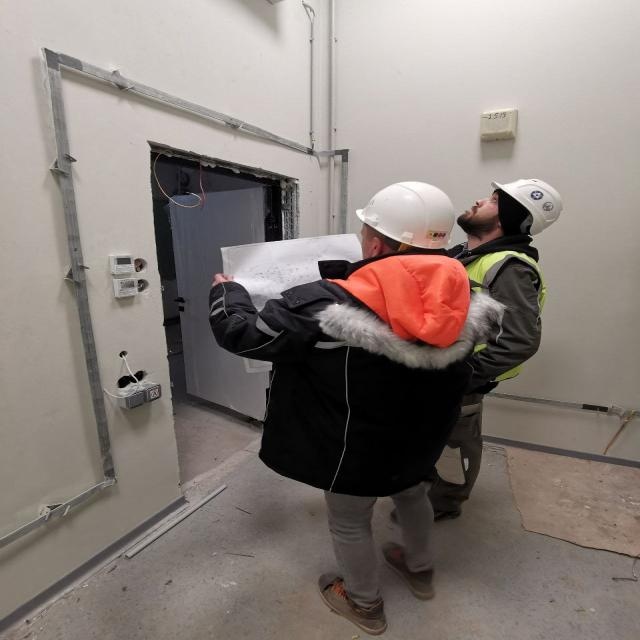Helmet: (357, 181, 458, 260), (460, 176, 565, 247)
